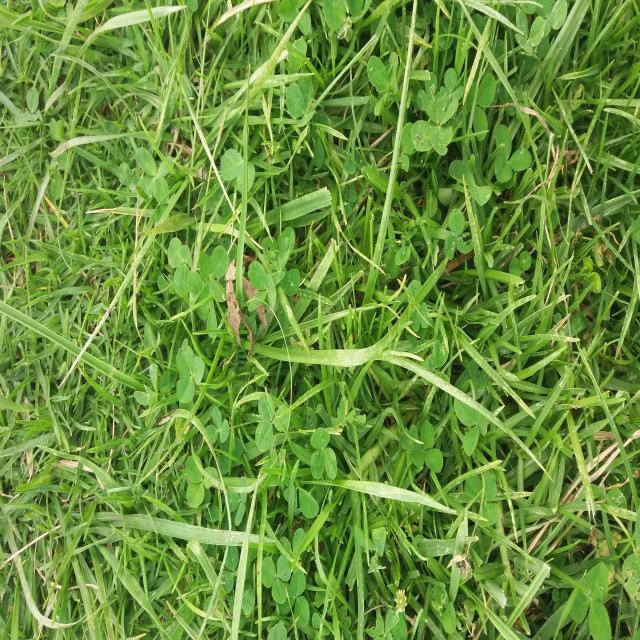Four Leaf Clover: (411, 84, 458, 156)
